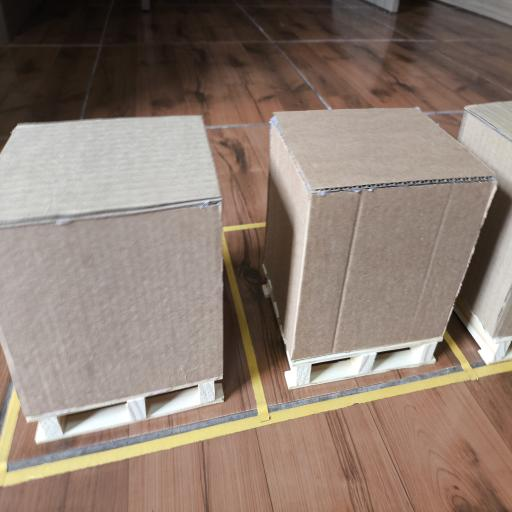pallet: (36, 381, 223, 443), (285, 337, 442, 389), (454, 296, 511, 364)
